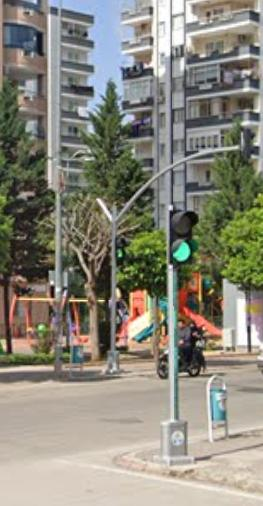greenlight: (169, 209, 194, 266)
